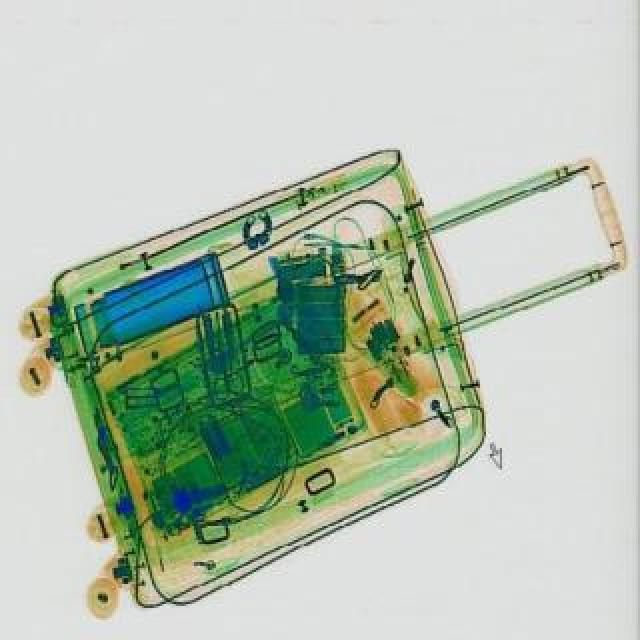pliers: (202, 314, 250, 402)
